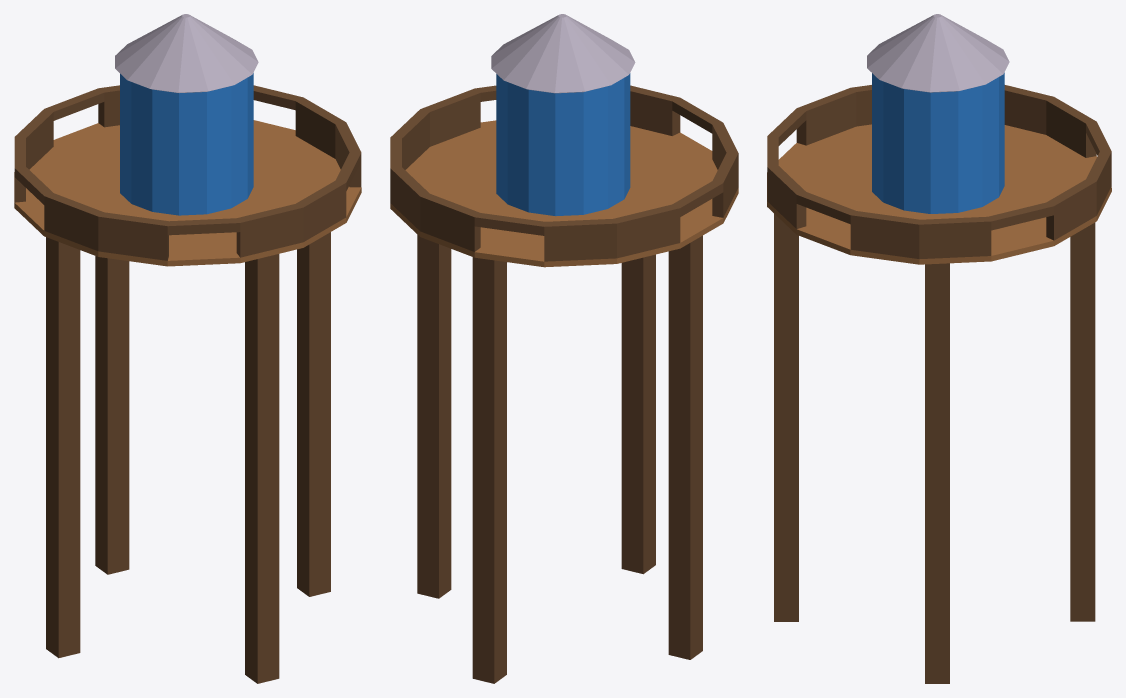
The model's file is Torre agua.fbx.
3 views of the same model, side by side, from view 1: azimuth 30°, elevation 25°; view 2: azimuth 150°, elevation 25°; view 3: azimuth 270°, elevation 25° (orthographic).
Visible parts, largest first — view 1: Cylinder; view 2: Cylinder; view 3: Cylinder.
Boxes of the visible parts, x1,y1,x2,y2 form: Cylinder: [14, 14, 361, 683]; Cylinder: [390, 14, 738, 683]; Cylinder: [767, 14, 1111, 683].
Bounding box in the file's own units: 517 × 989 × 514.
